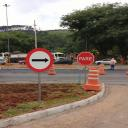Pare: (76, 52, 94, 66)
